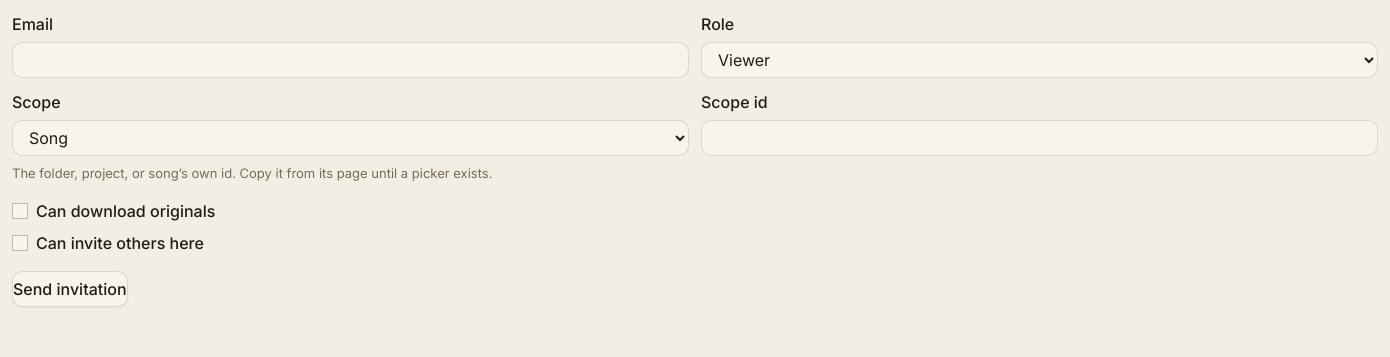
Scenario: inviting a collaborator › announces a refusal without showing a link
Type "sam@example.test" into the field labelled "Email".
click(350, 60); type("sam@example.test")  # box x1=12 y1=42 x2=689 y2=78
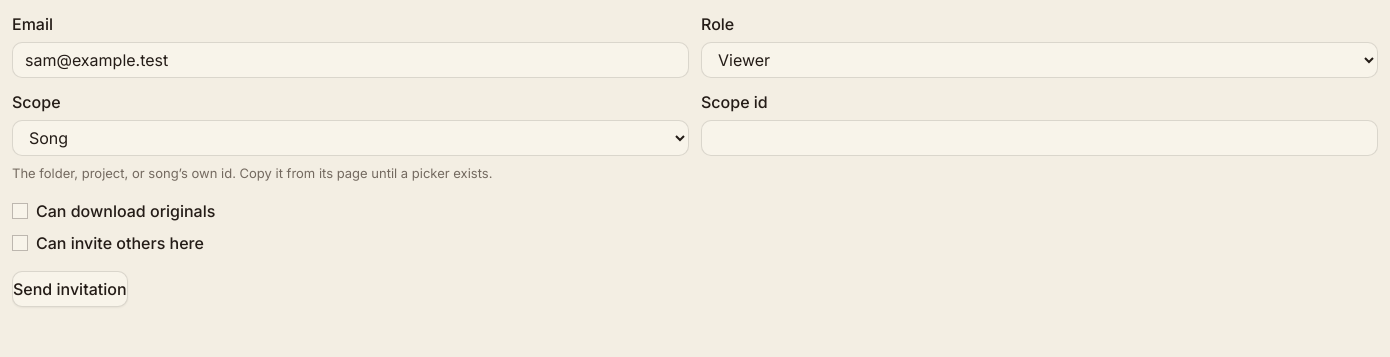
Type "song_1" into the field labelled "Scope id".
click(1040, 138); type("song_1")  # box x1=701 y1=120 x2=1378 y2=156
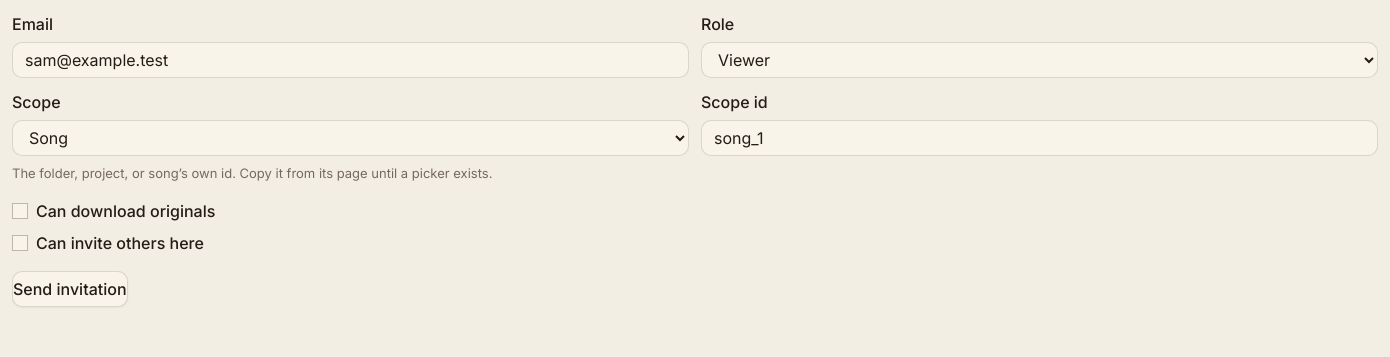
Click the button "Send invitation".
click(70, 289)  # box x1=12 y1=271 x2=128 y2=307
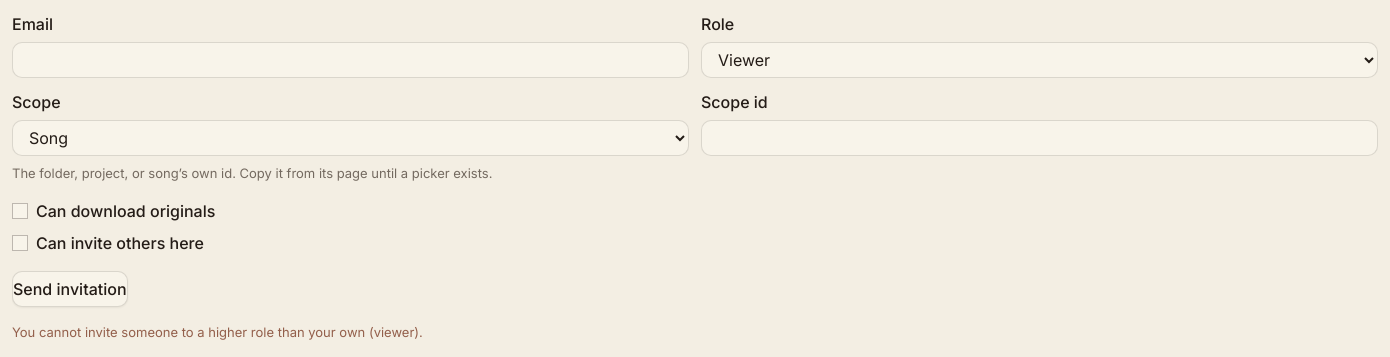
Now the text "You cannot invite someone to a higher role than your own (viewer)." is shown, box x1=12 y1=324 x2=423 y2=340
